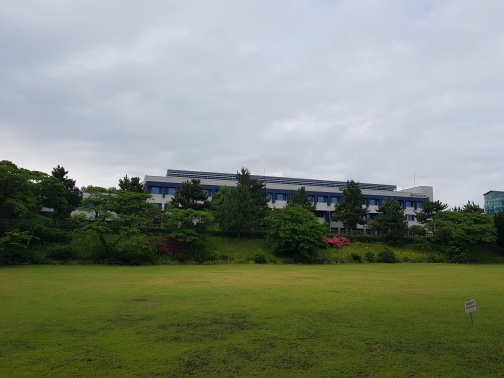College of Social Sciences: (137, 161, 434, 237)
